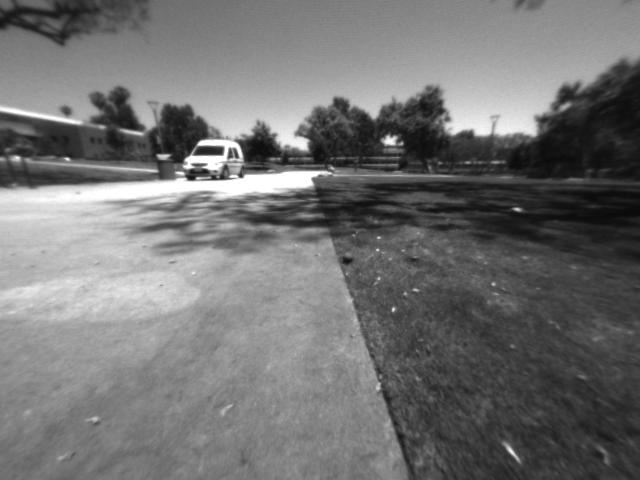dogtoy: (337, 241, 360, 272)
